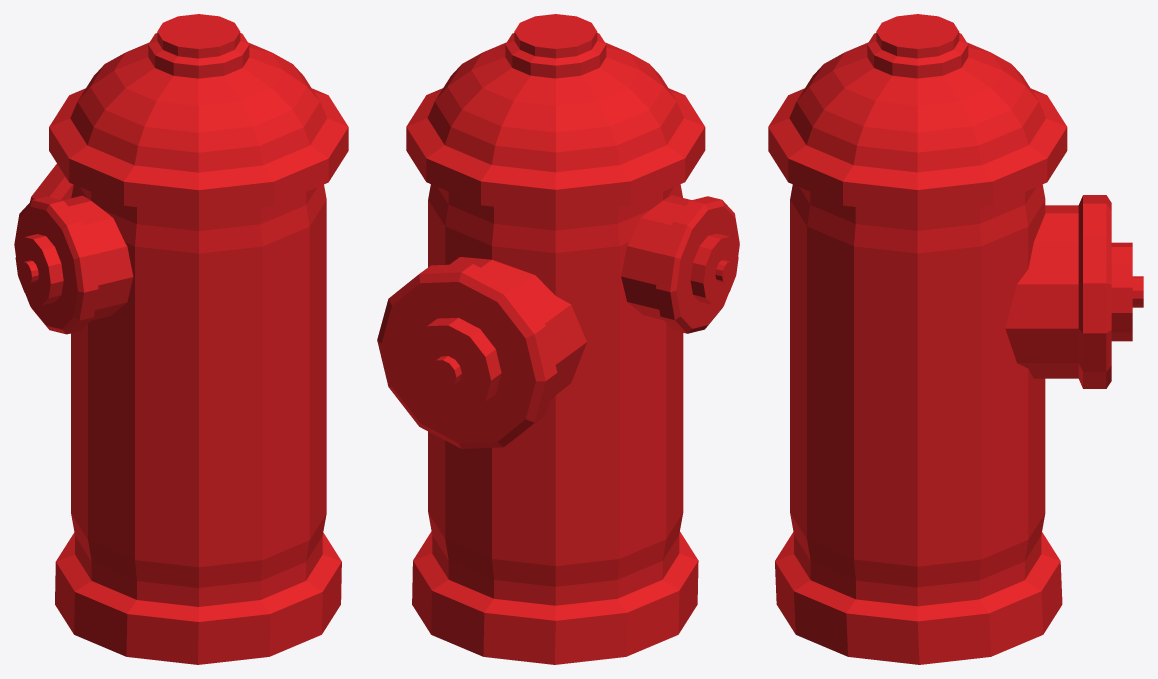
File: fire_hydrant.fbx
The picture shows the model from 3 angles, left to right: view 1: azimuth 30°, elevation 25°; view 2: azimuth 150°, elevation 25°; view 3: azimuth 270°, elevation 25°; orthographic projection.
Parts seen in each view (by area): view 1: Cylinder.002; view 2: Cylinder.002; view 3: Cylinder.002.
Boxes of the visible parts, x1=… form: Cylinder.002: x1=14, y1=14, x2=348, y2=664; Cylinder.002: x1=377, y1=14, x2=739, y2=664; Cylinder.002: x1=768, y1=14, x2=1143, y2=664.
Size of the model in its own units: 54.47 by 98.82 by 58.71.
